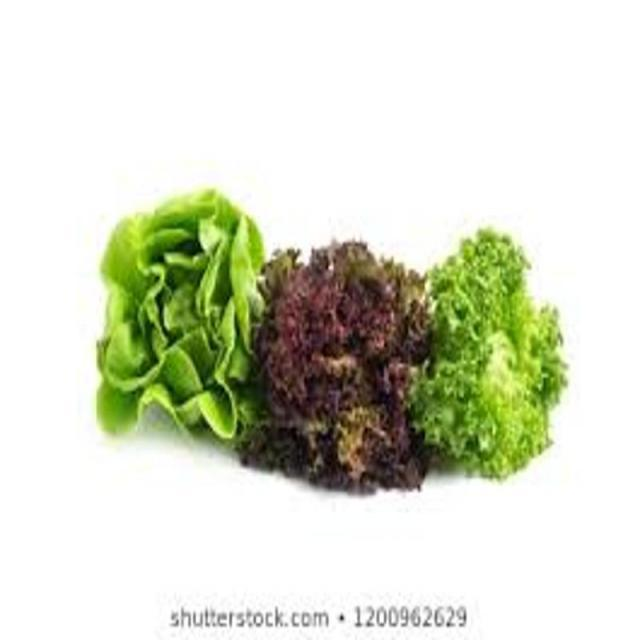Lettuce: (256, 240, 432, 498), (92, 183, 265, 442), (415, 224, 567, 484)
